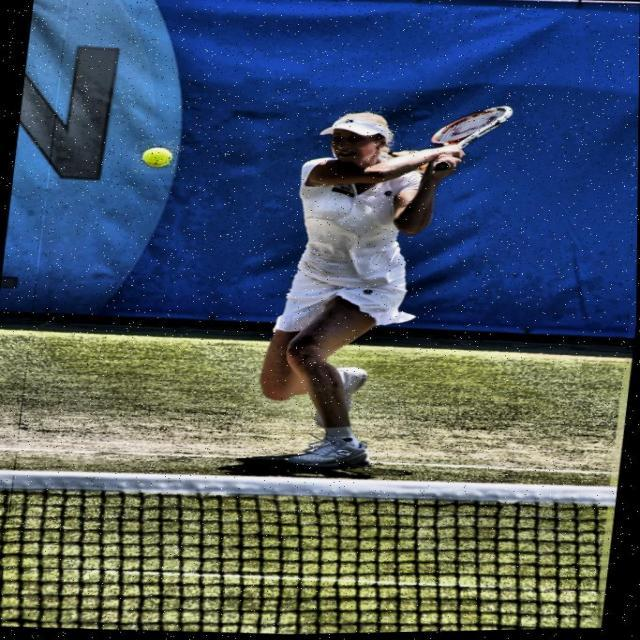tennis-ball: (131, 139, 185, 176)
